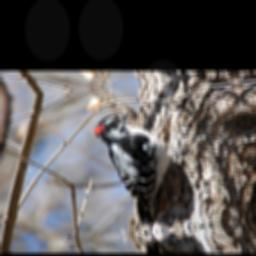Woodpecker: (87, 106, 187, 229)
